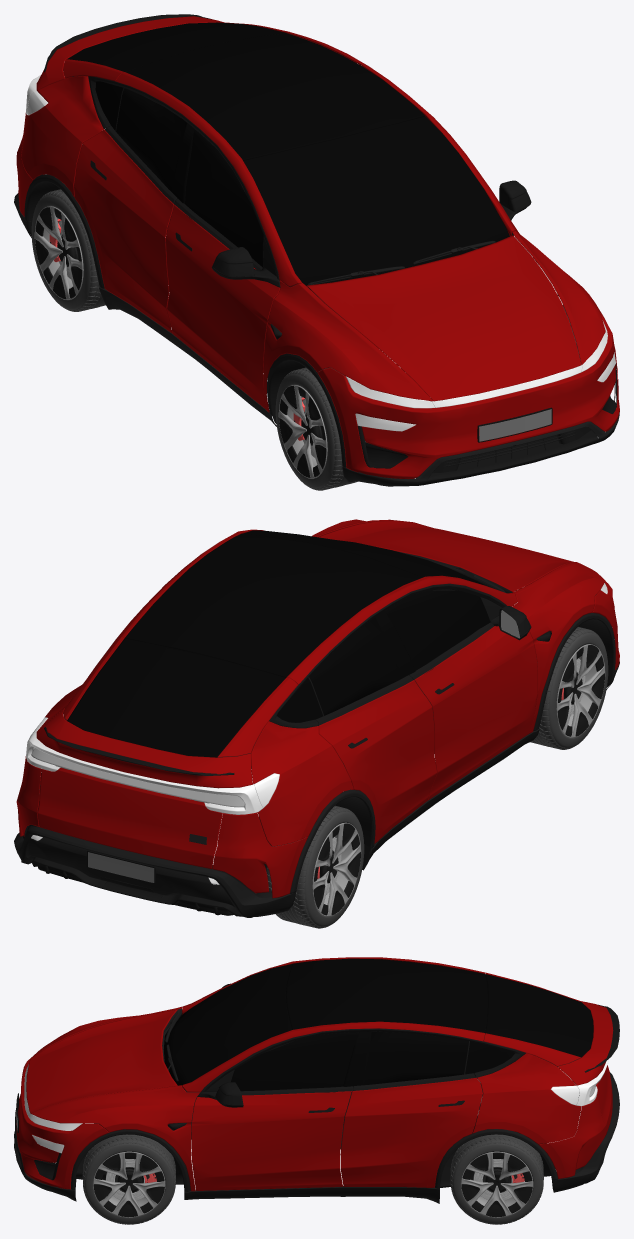
File: 2026_tesla_model_y_performance (1)-compressed-compressed.glb
3 renders of one model, top to bottom at view 1: azimuth 30°, elevation 25°; view 2: azimuth 150°, elevation 25°; view 3: azimuth 270°, elevation 25°, orthographic. The views are drawn at different scales.
Parts seen in each view (by area): view 1: Tesla_Model_Y_Performance_2026objcleanermaterialmergergles; view 2: Tesla_Model_Y_Performance_2026objcleanermaterialmergergles; view 3: Tesla_Model_Y_Performance_2026objcleanermaterialmergergles.
Part boxes in pixels (x1,y1,x2,y2): Tesla_Model_Y_Performance_2026objcleanermaterialmergergles: [14, 14, 619, 490]; Tesla_Model_Y_Performance_2026objcleanermaterialmergergles: [14, 519, 619, 928]; Tesla_Model_Y_Performance_2026objcleanermaterialmergergles: [14, 957, 619, 1224].
Size of the model in its own units: 2.12 by 1.65 by 4.78.
Materials: 17 (1 with a texture image).
